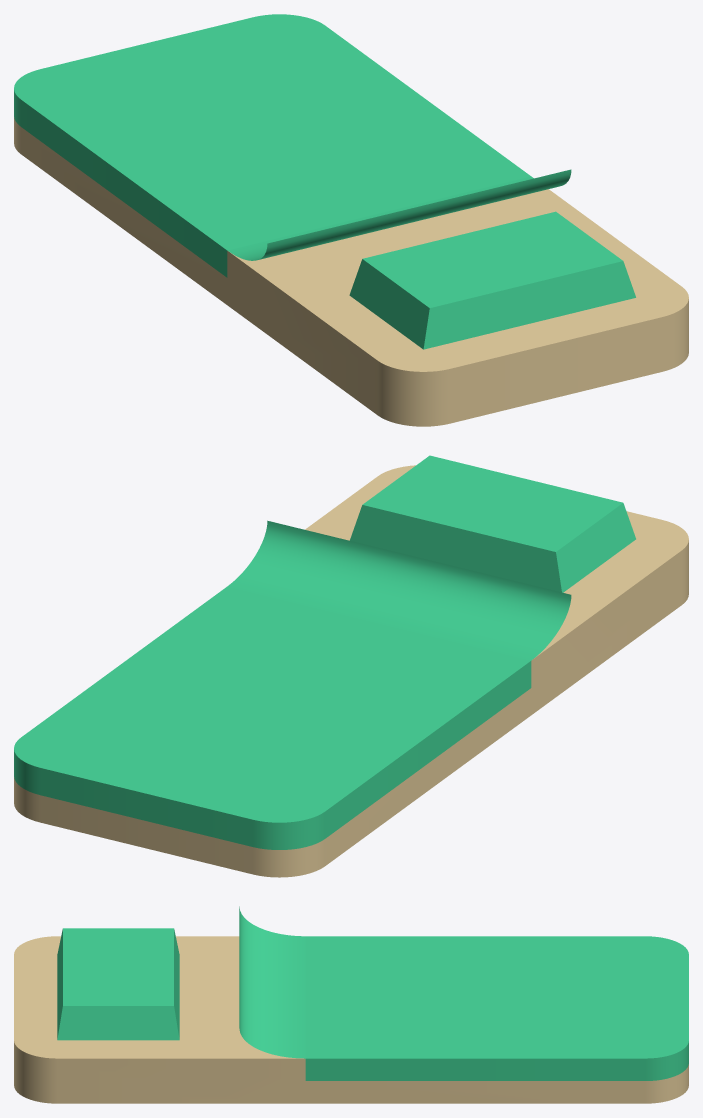
The model's file is bedroll.fbx.
3 renders of one model, top to bottom at view 1: azimuth 30°, elevation 25°; view 2: azimuth 150°, elevation 25°; view 3: azimuth 270°, elevation 25°, orthographic. The views are drawn at different scales.
Parts seen in each view (by area): view 1: bedroll; view 2: bedroll; view 3: bedroll.
Part boxes in pixels (x1,y1,x2,y2): bedroll: (14,14,688,426); bedroll: (14,455,688,877); bedroll: (14,906,688,1103).
Size of the model in its own units: 2.6 by 0.7484 by 6.08.
